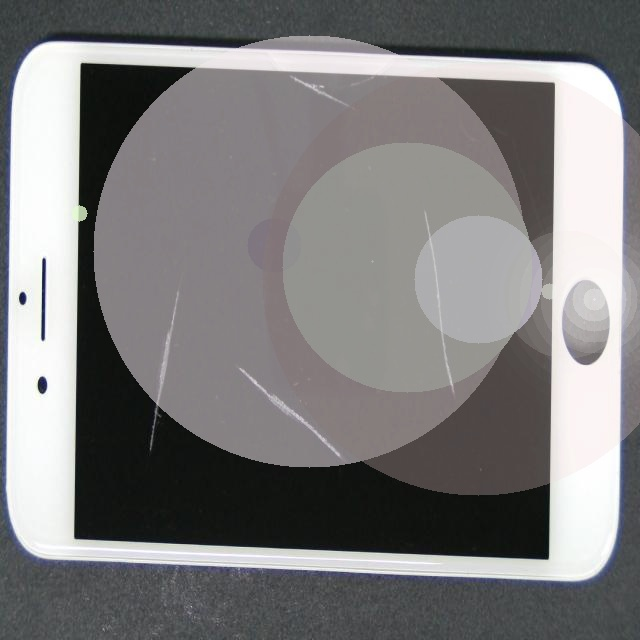scratch: (233, 290, 469, 634), (264, 326, 640, 492), (75, 142, 243, 423)
